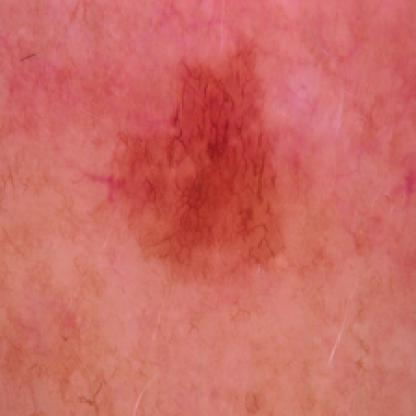benign: (117, 59, 306, 286)
